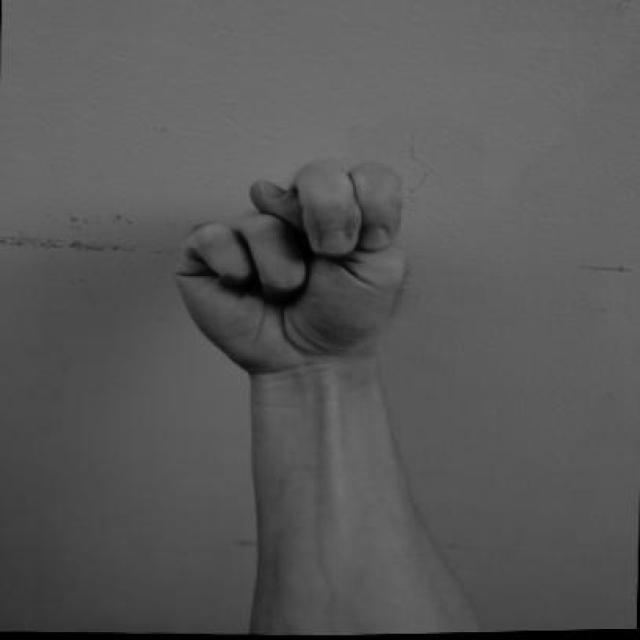N: (163, 151, 416, 389)
